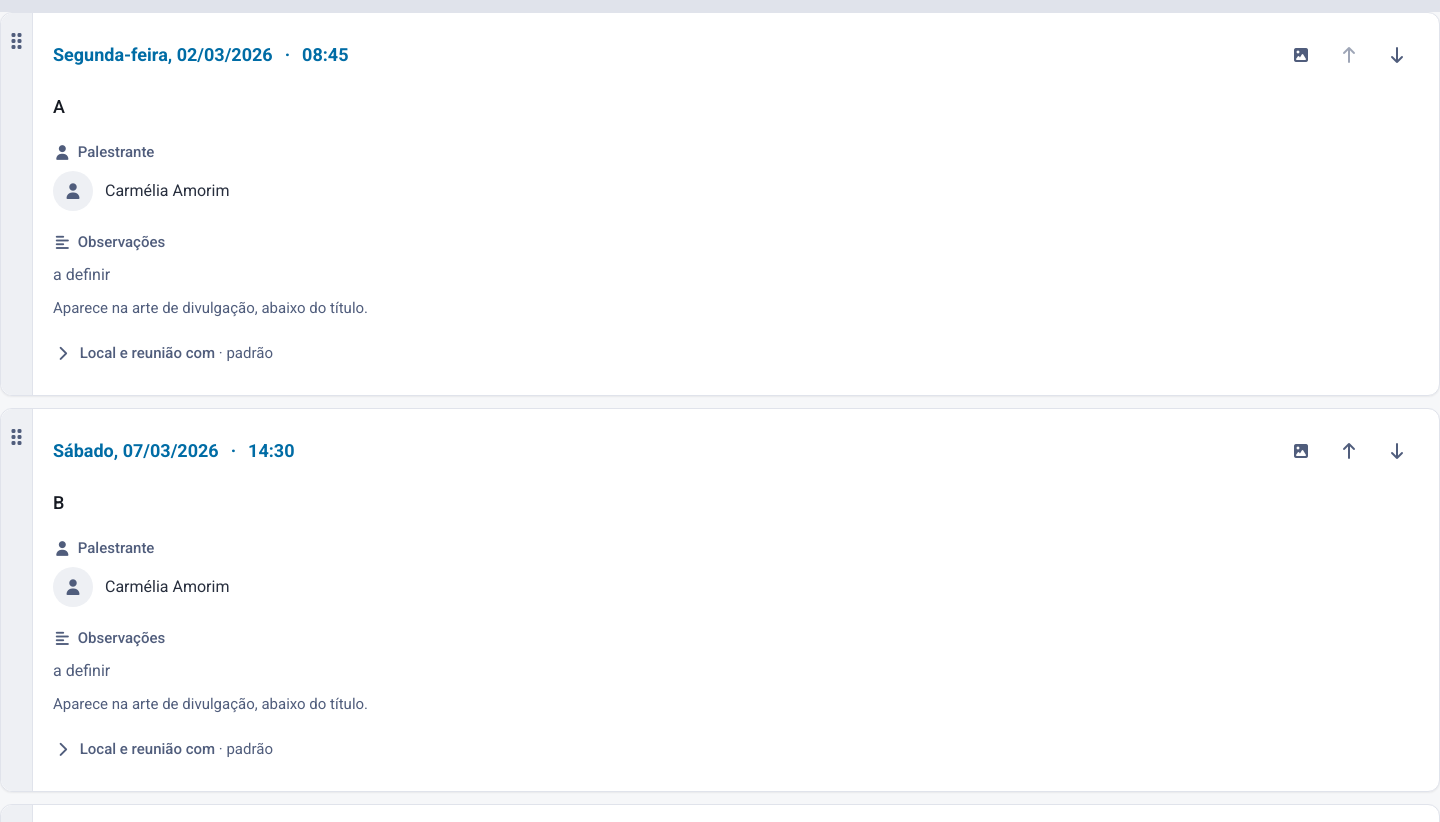
Scenario: TalkBoard › restores the previous order and dates and shows the error when the swap fails
What coordinates should you click on to do the following:
click the button named "Mover para baixo: A"
I would click on:
 (1397, 55)
Its box is 1375,33 -> 1419,77.
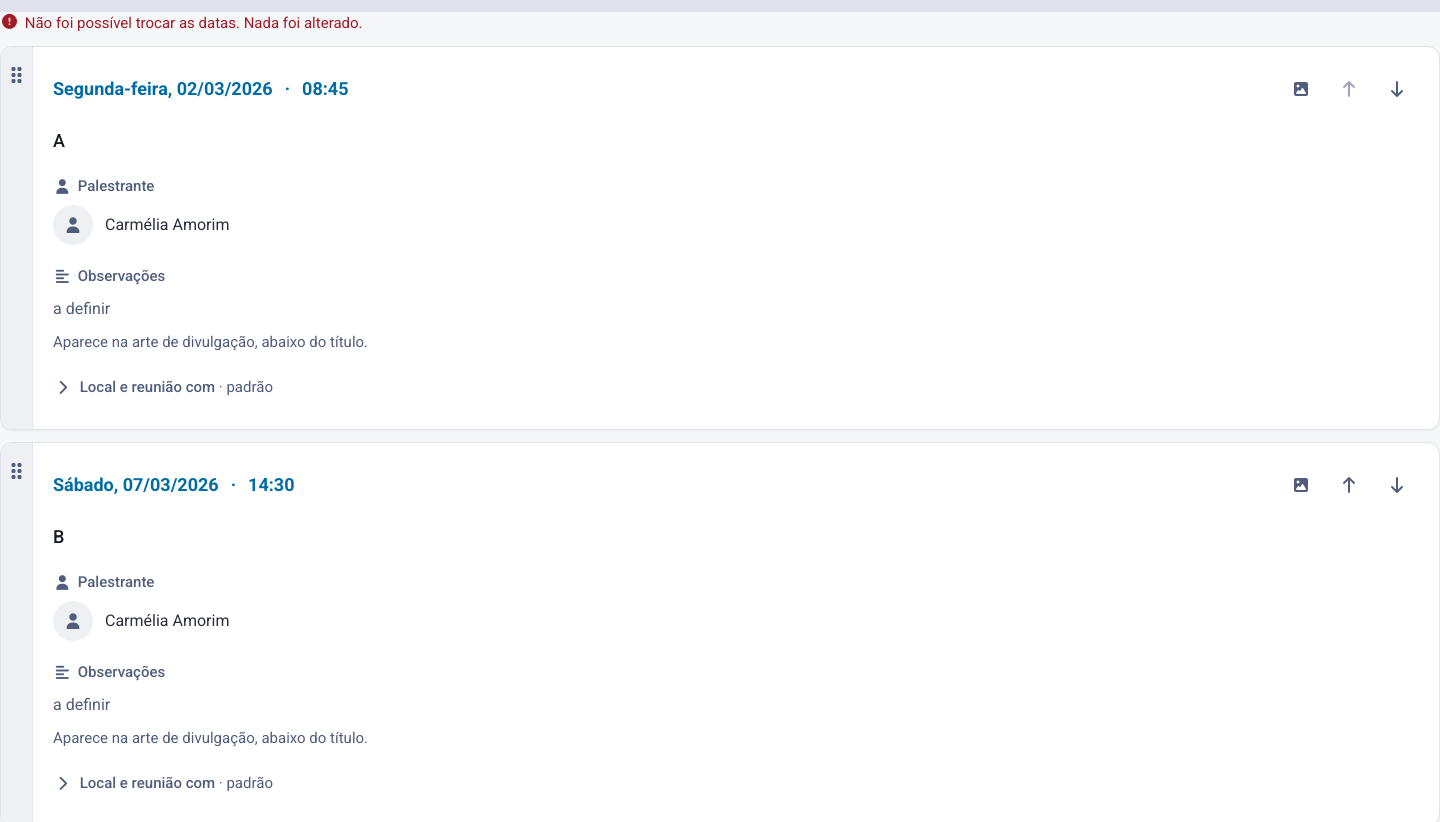
Expected: the message "Não foi possível trocar as datas. Nada foi alterado." is shown, 0,14 -> 363,34
